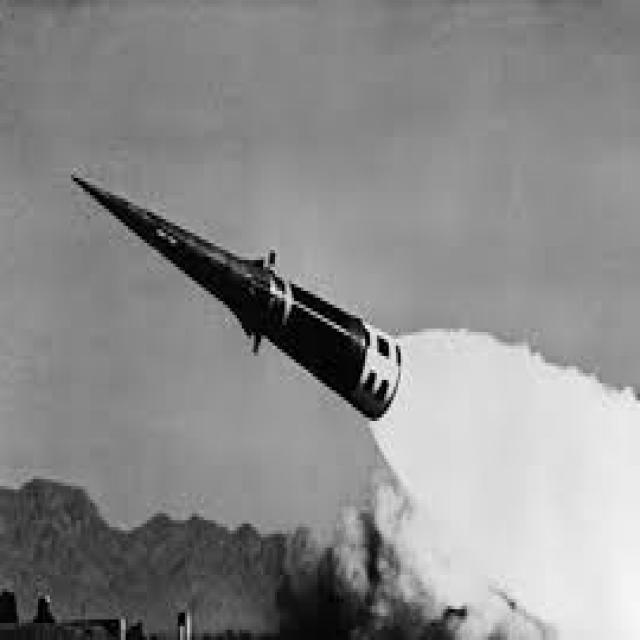missile: (71, 168, 402, 423)
